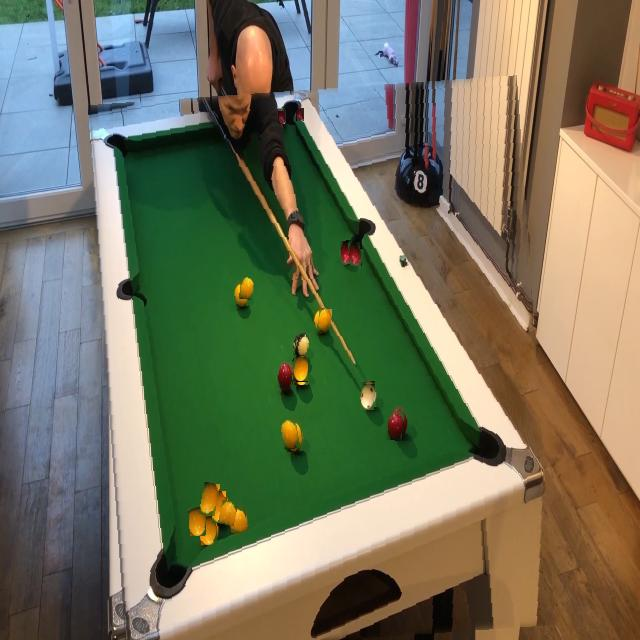Ball: (201, 482, 219, 516), (281, 418, 299, 450), (386, 411, 404, 441), (189, 507, 206, 536), (219, 500, 237, 526), (277, 362, 292, 388), (360, 384, 375, 410), (294, 332, 310, 356), (293, 358, 308, 383), (317, 309, 332, 333), (240, 278, 254, 300), (349, 242, 361, 266), (296, 108, 304, 121)
Billiard table: (97, 82, 546, 640)
